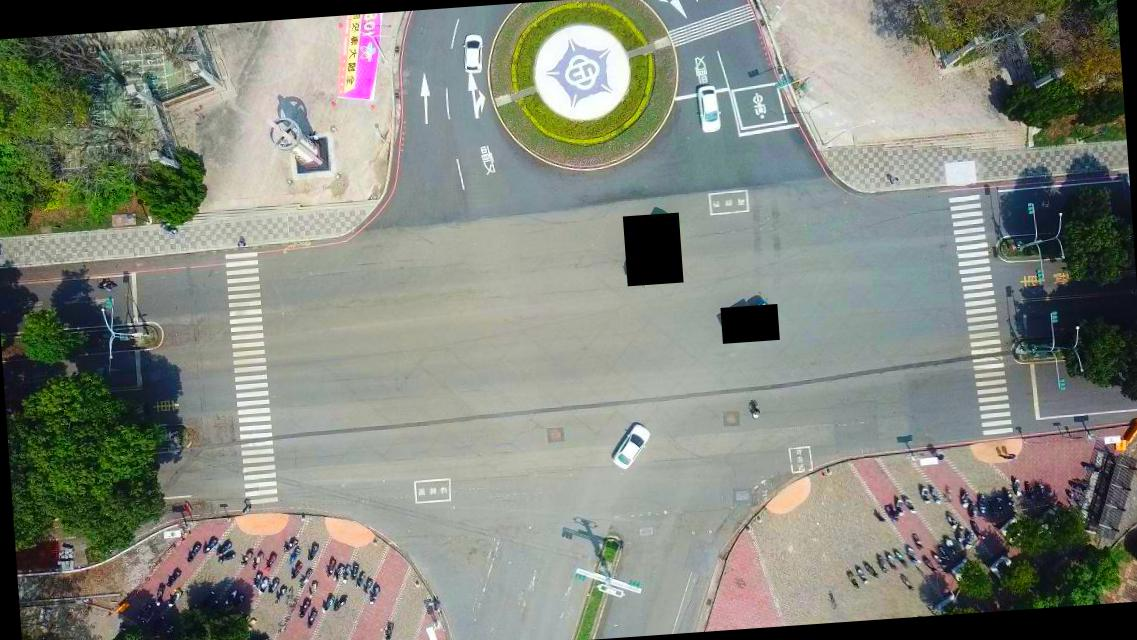vehicle: (610, 418, 652, 472), (694, 83, 721, 135), (461, 32, 484, 74)
